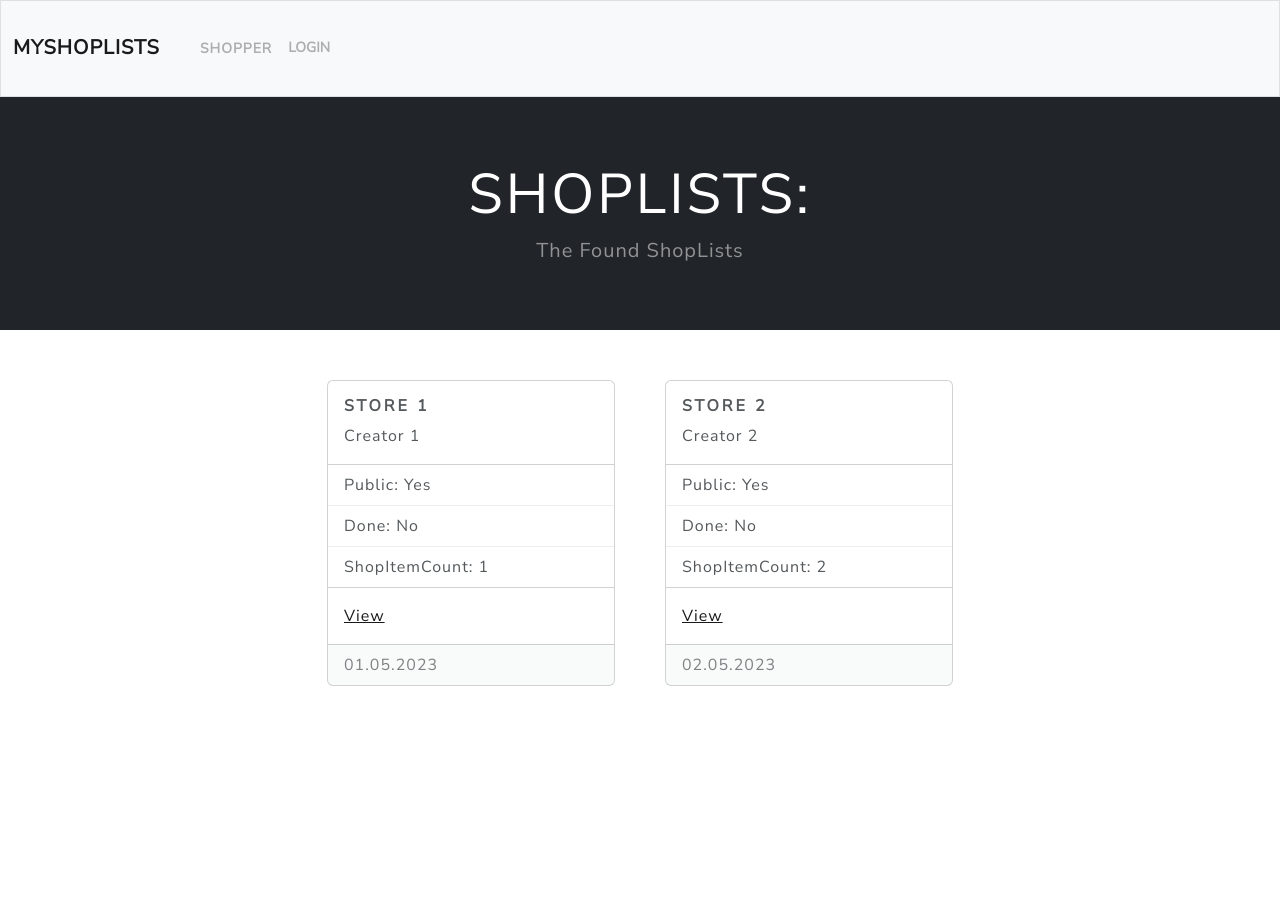
Scenario: Login-Dialog schließt sich bei erfolgreichem Login
Click the button "Login": [309, 48] box left=280, top=25, right=338, bottom=72
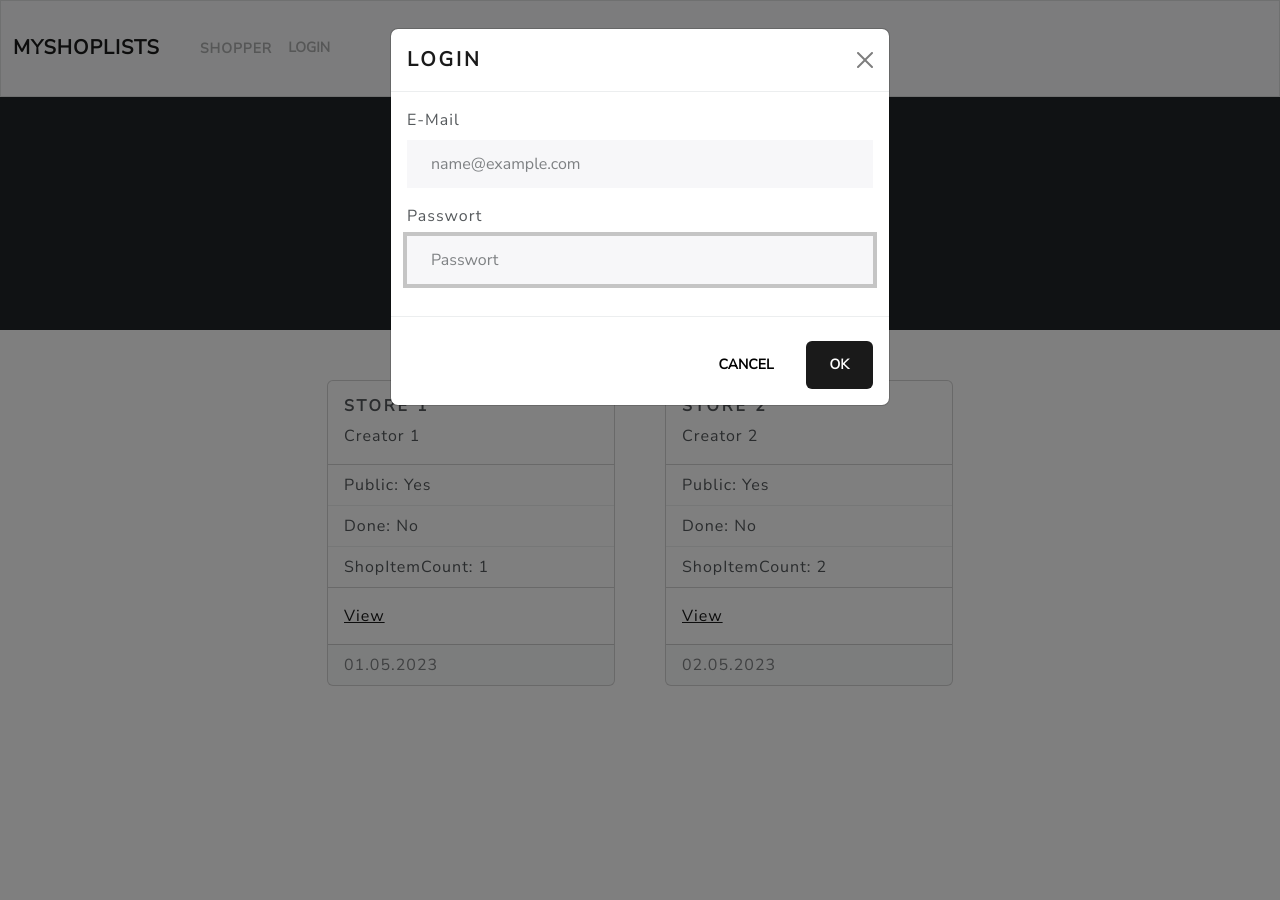
Expected: the field labelled "E-Mail" is shown
Expected: the password field labelled "Passwort" is shown, left=407, top=236, right=873, bottom=284
Expected: the button "Cancel" is shown, left=695, top=341, right=798, bottom=389
# Login-Dialog ausfüllen und OK klicken
In the field labelled "E-Mail": [640, 164] box left=407, top=140, right=873, bottom=188, type "john@some-host.de"
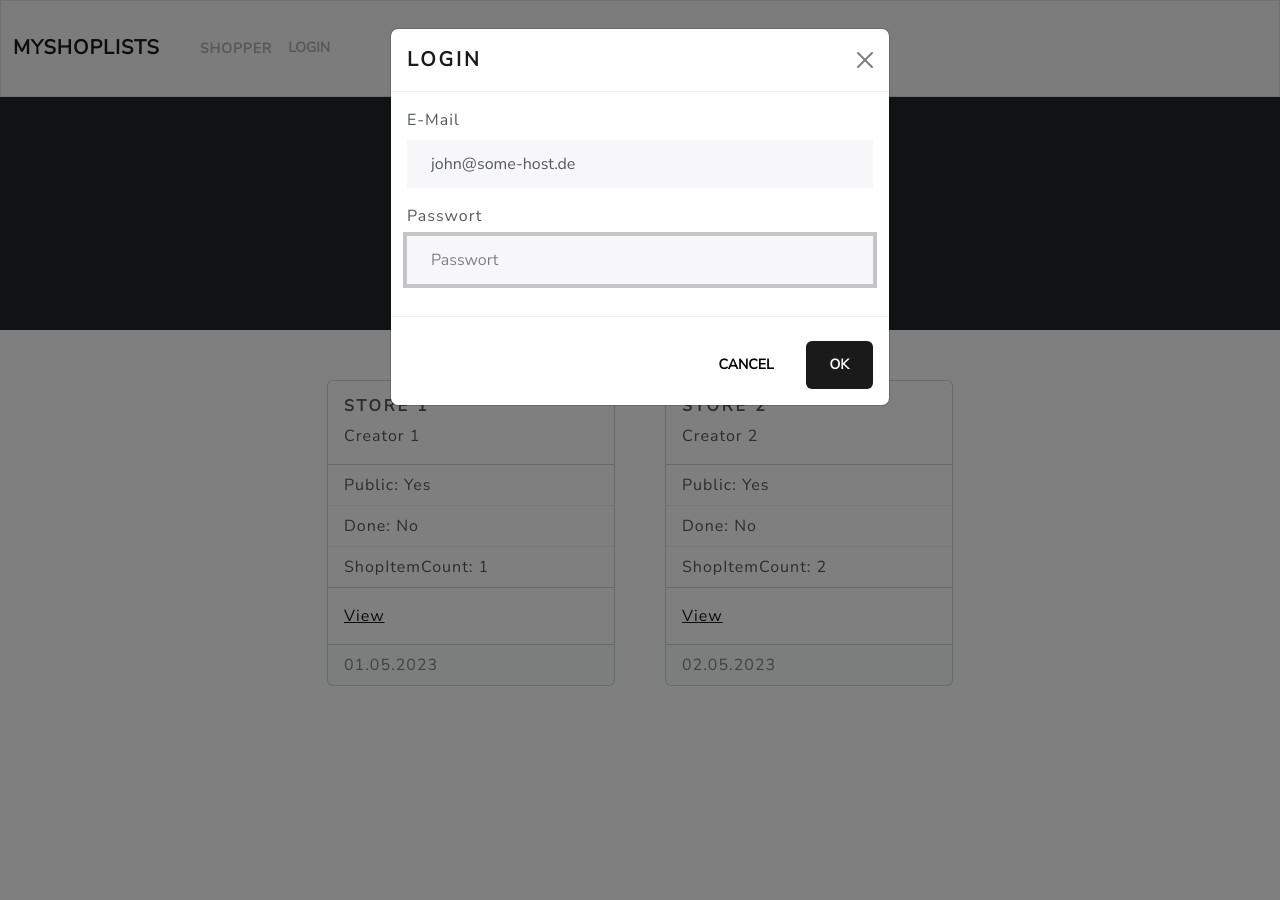
In the password field labelled "Passwort": [640, 260] box left=407, top=236, right=873, bottom=284, type "12abcAB!"
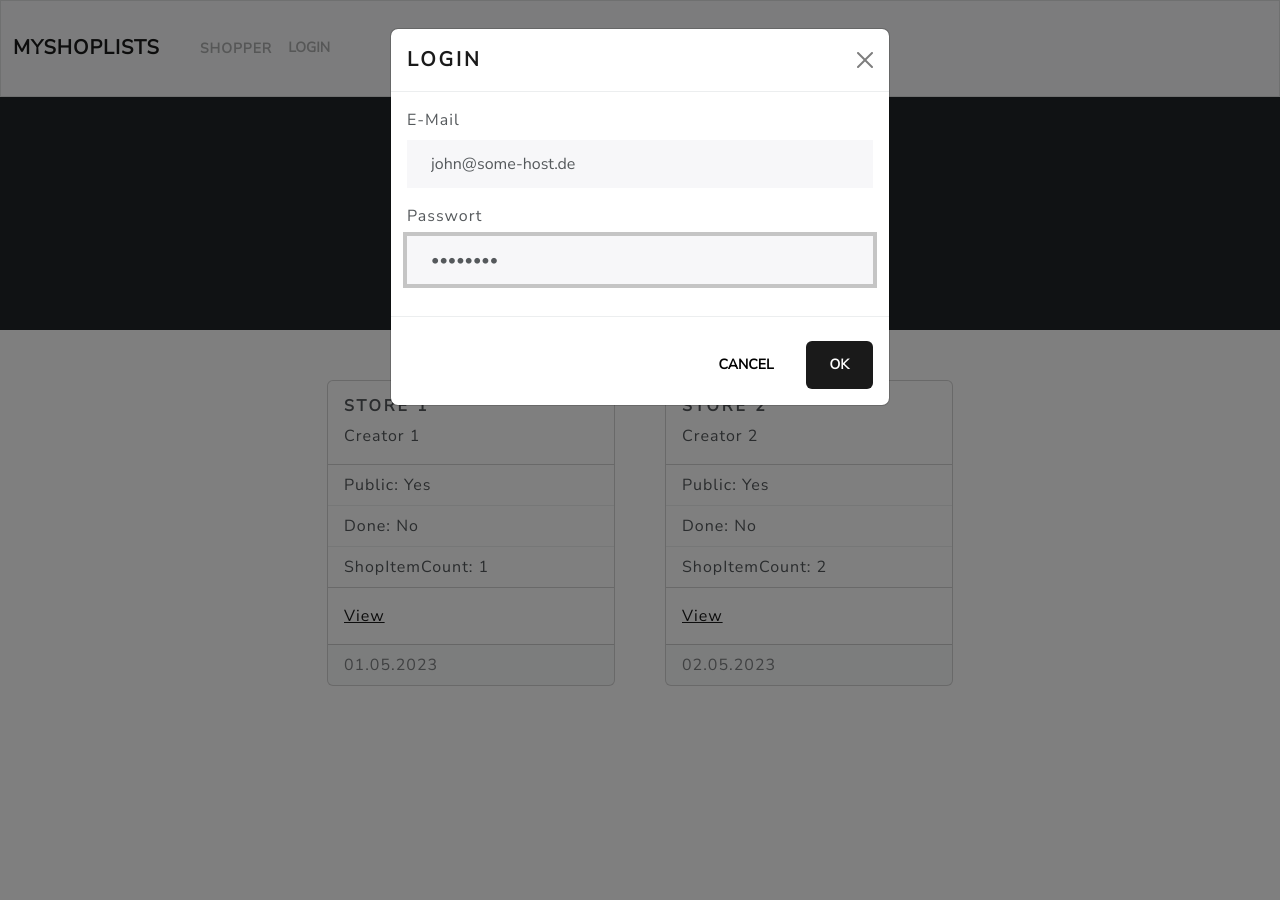
Click the button "OK": [839, 365] box left=806, top=341, right=873, bottom=389
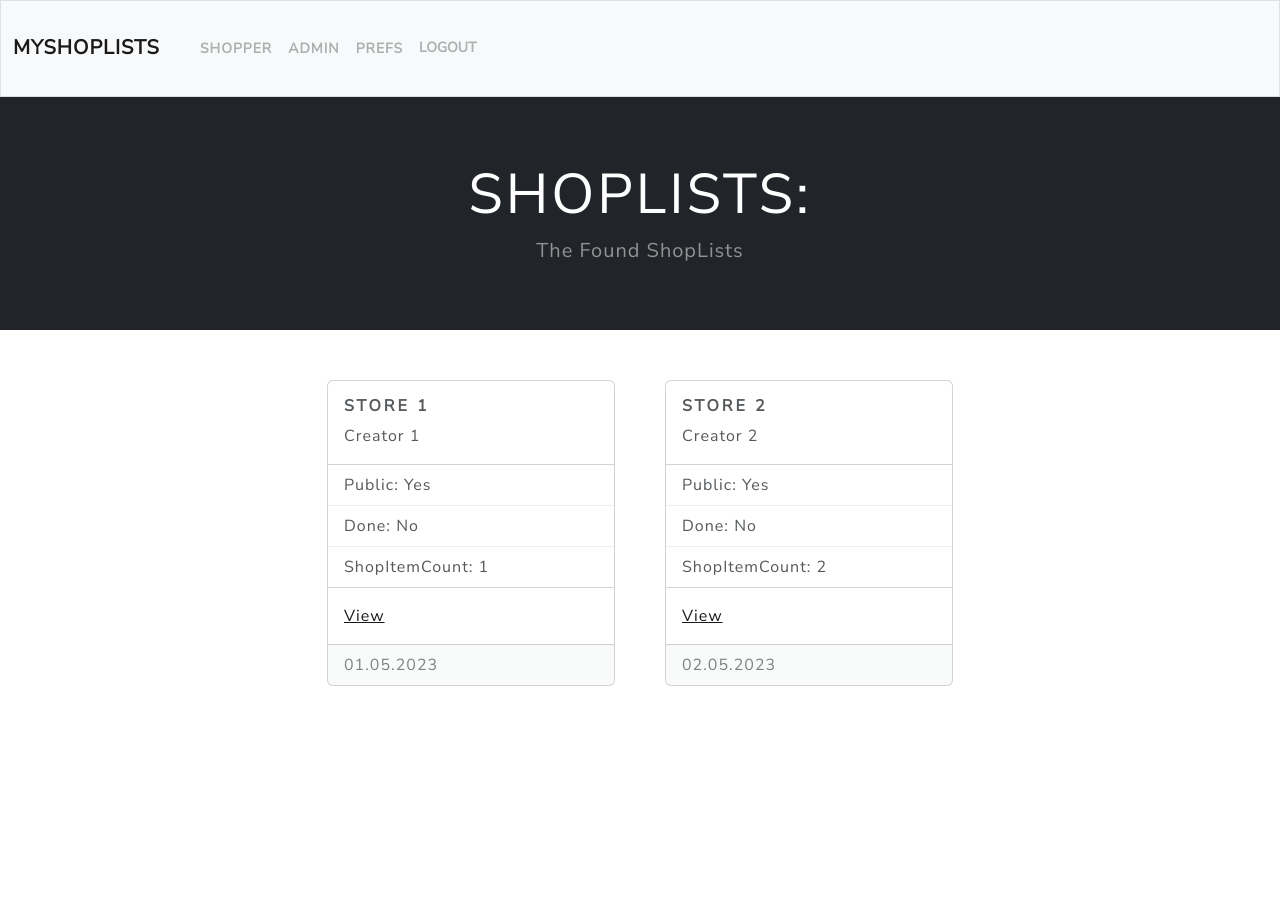
Expected: no labels labelled "E-Mail" are shown
